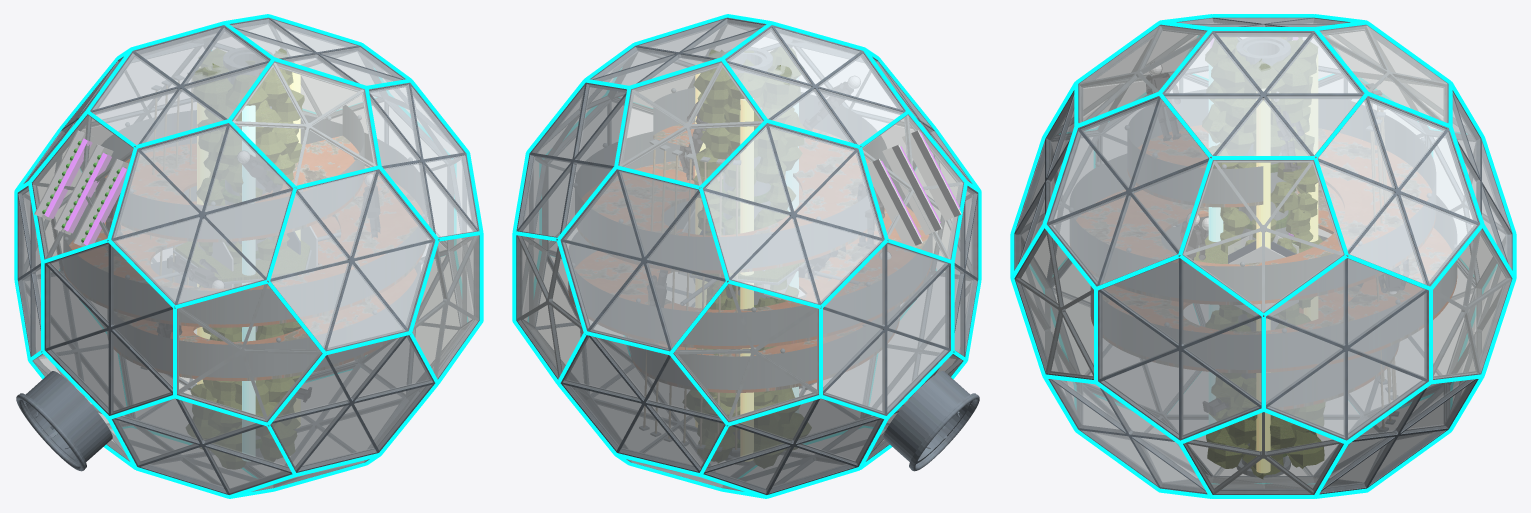
File: HCSA_MAIN.glb
3 views of the same model, side by side, from view 1: azimuth 30°, elevation 25°; view 2: azimuth 150°, elevation 25°; view 3: azimuth 270°, elevation 25° (orthographic). The views are drawn at different scales.
Visible parts, largest first — view 1: interiorA_ellipsoidal_rail, HEX_03_Glass, HEX_10_Glass, WIREFRAME, interiorA_ellipsoidal_track, HEX_01_Glass, PENT_04_Glass, HEX_09_Glass, HEX_07_Glass, PENT_05_Glass, HEX_05_Glass, HEX_17_Glass (+55 smaller); view 2: interiorA_ellipsoidal_rail, HEX_06_Glass, HEX_12_Glass, WIREFRAME, interiorA_ellipsoidal_track, HEX_02_Glass, PENT_03_Glass, HEX_11_Glass, HEX_07_Glass, PENT_07_Glass, HEX_04_Glass, HEX_16_Glass (+50 smaller); view 3: interiorA_ellipsoidal_rail, HEX_19_Glass, HEX_20_Glass, interiorA_ellipsoidal_track, WIREFRAME, HEX_16_Glass, HEX_17_Glass, HEX_14_Glass, PENT_12_Glass, PENT_11_Glass, PENT_10_Glass, PENT_09_Glass (+59 smaller).
Boxes of the visible parts, left/top/right/bottom form: interiorA_ellipsoidal_rail: left=63, top=105, right=426, bottom=377; HEX_03_Glass: left=113, top=125, right=291, bottom=303; HEX_10_Glass: left=271, top=171, right=432, bottom=349; WIREFRAME: left=14, top=14, right=483, bottom=498; interiorA_ellipsoidal_track: left=64, top=136, right=425, bottom=380; HEX_01_Glass: left=46, top=244, right=172, bottom=413; PENT_04_Glass: left=177, top=284, right=321, bottom=421; HEX_09_Glass: left=271, top=336, right=432, bottom=470; HEX_07_Glass: left=92, top=27, right=268, bottom=144; PENT_05_Glass: left=233, top=62, right=376, bottom=185; HEX_05_Glass: left=113, top=398, right=290, bottom=492; HEX_17_Glass: left=369, top=84, right=477, bottom=237; interiorA_ellipsoidal_rail: left=568, top=88, right=932, bottom=389; HEX_06_Glass: left=704, top=125, right=882, bottom=303; HEX_12_Glass: left=563, top=171, right=724, bottom=349; WIREFRAME: left=512, top=14, right=981, bottom=498; interiorA_ellipsoidal_track: left=568, top=121, right=930, bottom=392; HEX_02_Glass: left=823, top=244, right=949, bottom=413; PENT_03_Glass: left=674, top=284, right=818, bottom=421; HEX_11_Glass: left=563, top=336, right=724, bottom=470; HEX_07_Glass: left=727, top=27, right=903, bottom=144; PENT_07_Glass: left=619, top=62, right=762, bottom=185; HEX_04_Glass: left=705, top=398, right=882, bottom=492; HEX_16_Glass: left=518, top=84, right=626, bottom=237; interiorA_ellipsoidal_rail: left=1070, top=90, right=1456, bottom=406; HEX_19_Glass: left=1099, top=259, right=1261, bottom=437; HEX_20_Glass: left=1266, top=259, right=1427, bottom=437; interiorA_ellipsoidal_track: left=1076, top=125, right=1456, bottom=409; WIREFRAME: left=1010, top=14, right=1516, bottom=498; HEX_16_Glass: left=1318, top=98, right=1477, bottom=284; HEX_17_Glass: left=1049, top=98, right=1208, bottom=284; HEX_14_Glass: left=1165, top=32, right=1361, bottom=155; PENT_12_Glass: left=1183, top=160, right=1343, bottom=312; PENT_11_Glass: left=1184, top=412, right=1342, bottom=494; PENT_10_Glass: left=1433, top=229, right=1511, bottom=378; PENT_09_Glass: left=1015, top=229, right=1093, bottom=378.
Size of the model in its own units: 11.46 by 11.07 by 11.08.
Materials: 25 (7 with a texture image).
